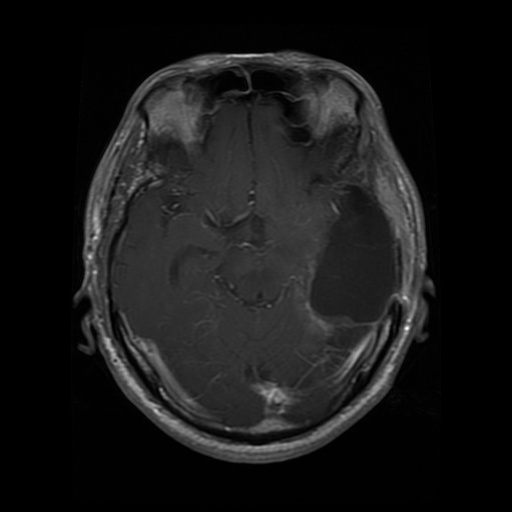glioma: (304, 183, 399, 324)
